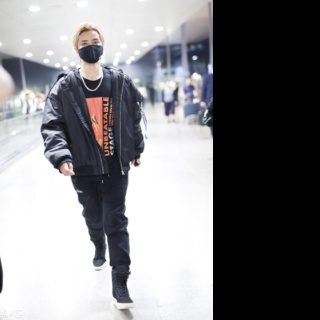with_mask: (78, 36, 104, 64)
